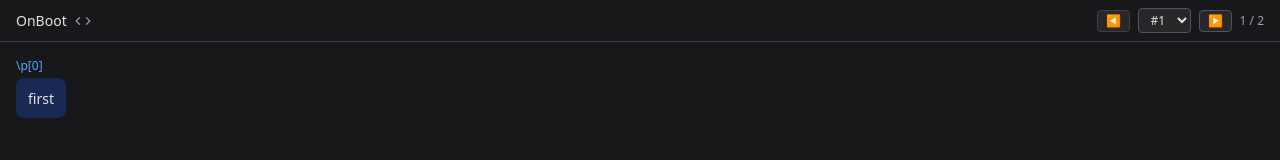
ConversationPreview › 複数バリアント時に統一UIを表示し、切り替えで会話内容が変わる
Expected: the button named "前のバリアント" is shown, [1097, 10, 1130, 32]
Expected: the dropdown named "バリアントを選択" is shown, [1138, 8, 1191, 33]
Step 1. Click the button named "次のバリアント" → {"x": 1215, "y": 20}, box [1199, 10, 1232, 32]
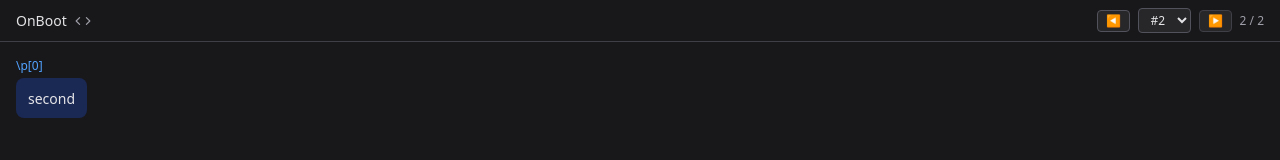
Expected: the text "2 / 2" is shown, [1240, 12, 1264, 28]
Expected: the text "second" is shown, [28, 89, 75, 108]
